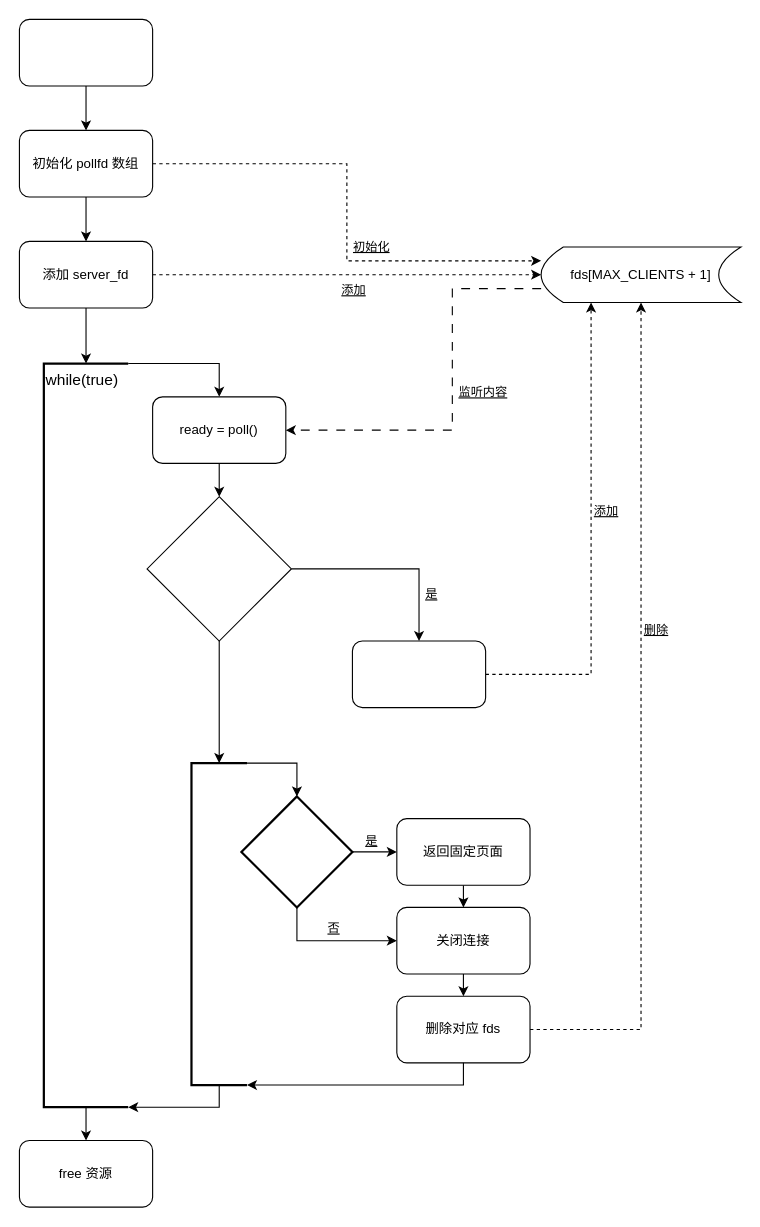
This 760x1227 diagram has some shape labels left out. The shapes that lost their labels are listed below. From the top down, each one's centre as x and y in pixels, then its label:
At (x=85, y=52): "创建 server_fd".
At (x=218, y=568): "检查 server_fd 是否有新连接？".
At (x=418, y=674): "添加监听 fds".
At (x=296, y=851): "接受到请求？".
At (x=219, y=923): "依次检查 剩余可读 连接".
